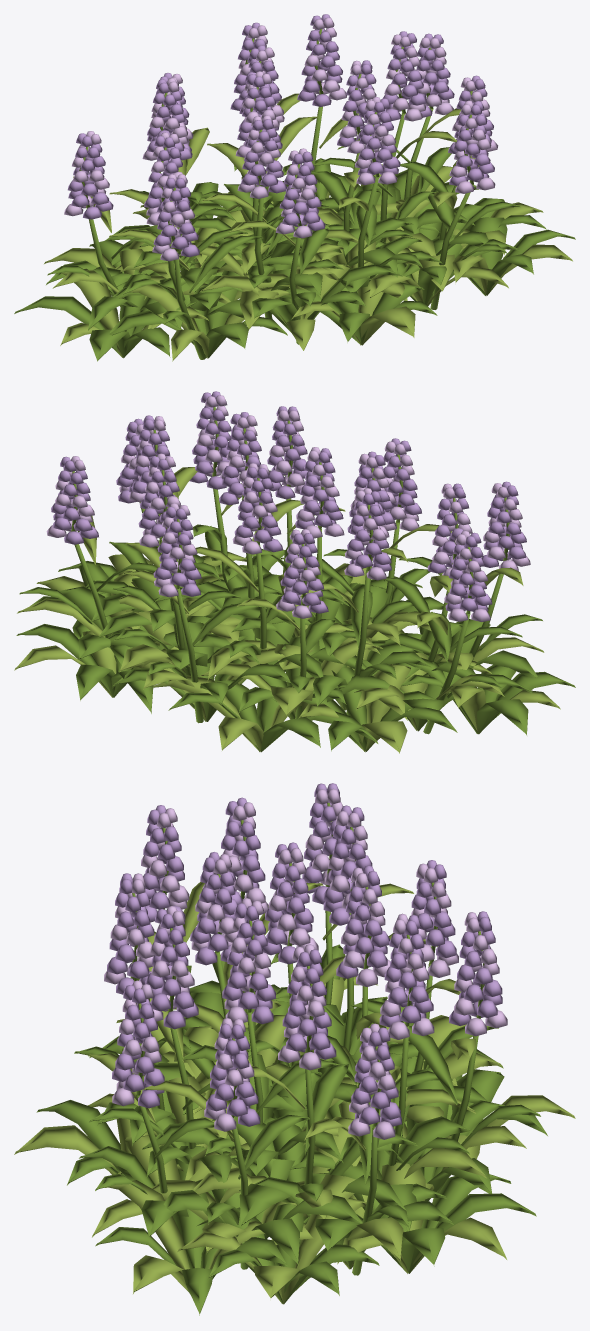
File: flowers_lavender.fbx
3 views of the same model, one above another, from view 1: azimuth 30°, elevation 25°; view 2: azimuth 150°, elevation 25°; view 3: azimuth 270°, elevation 25° (orthographic). The views are drawn at different scales.
Visible parts, largest first — view 1: flowers_lavender • Flower foliage • garden green.002, flowers_lavender • Flower foliage • sunlit green.002, flowers_lavender • Lavender floret • soft lilac, flowers_lavender • Lavender floret • light tip; view 2: flowers_lavender • Flower foliage • garden green.002, flowers_lavender • Lavender floret • soft lilac, flowers_lavender • Flower foliage • sunlit green.002, flowers_lavender • Lavender floret • light tip; view 3: flowers_lavender • Flower foliage • garden green.002, flowers_lavender • Lavender floret • soft lilac, flowers_lavender • Flower foliage • sunlit green.002, flowers_lavender • Lavender floret • light tip.
Part boxes in pixels (x1=…): flowers_lavender • Flower foliage • garden green.002: x1=14, y1=29, x2=575, y2=361; flowers_lavender • Flower foliage • sunlit green.002: x1=44, y1=93, x2=572, y2=361; flowers_lavender • Lavender floret • soft lilac: x1=67, y1=14, x2=494, y2=257; flowers_lavender • Lavender floret • light tip: x1=64, y1=17, x2=498, y2=261; flowers_lavender • Flower foliage • garden green.002: x1=16, y1=407, x2=575, y2=752; flowers_lavender • Lavender floret • soft lilac: x1=51, y1=391, x2=526, y2=613; flowers_lavender • Flower foliage • sunlit green.002: x1=14, y1=467, x2=560, y2=753; flowers_lavender • Lavender floret • light tip: x1=46, y1=395, x2=530, y2=621; flowers_lavender • Flower foliage • garden green.002: x1=36, y1=802, x2=547, y2=1315; flowers_lavender • Lavender floret • soft lilac: x1=107, y1=783, x2=502, y2=1126; flowers_lavender • Flower foliage • sunlit green.002: x1=14, y1=882, x2=575, y2=1304; flowers_lavender • Lavender floret • light tip: x1=104, y1=789, x2=507, y2=1139.
Bounding box in the file's own units: 1.4 × 0.65 × 1.
